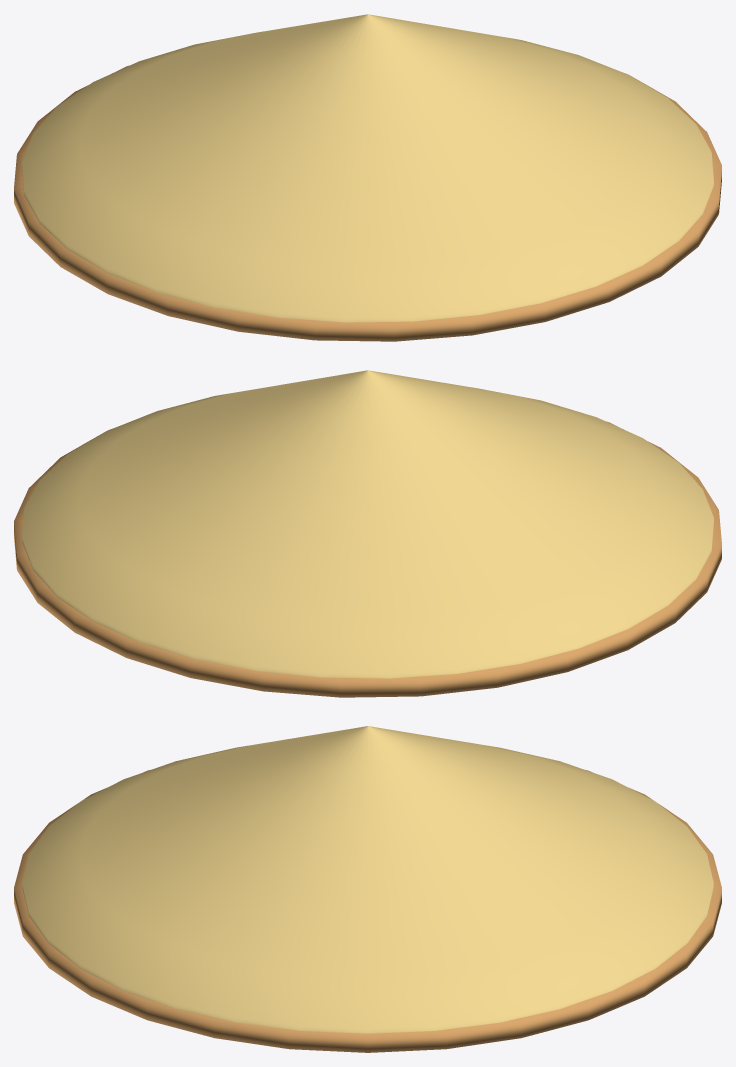
Rendered from bamboo_hat.glb.
The picture shows the model from 3 angles, top to bottom: view 1: azimuth 30°, elevation 25°; view 2: azimuth 150°, elevation 25°; view 3: azimuth 270°, elevation 25°; orthographic projection.
Visible parts, largest first — view 1: bamboo_hat_Head; view 2: bamboo_hat_Head; view 3: bamboo_hat_Head.
Part boxes in pixels (x1,y1,x2,y2): bamboo_hat_Head: [14, 14, 721, 341]; bamboo_hat_Head: [14, 370, 721, 697]; bamboo_hat_Head: [14, 726, 721, 1052].
Bounding box in the file's own units: 1.02 × 0.283 × 1.02.
